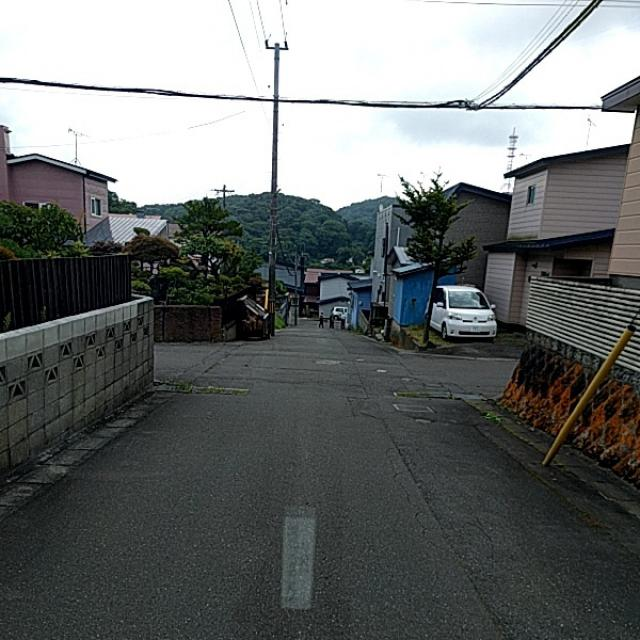pothole: (356, 366, 483, 429)
